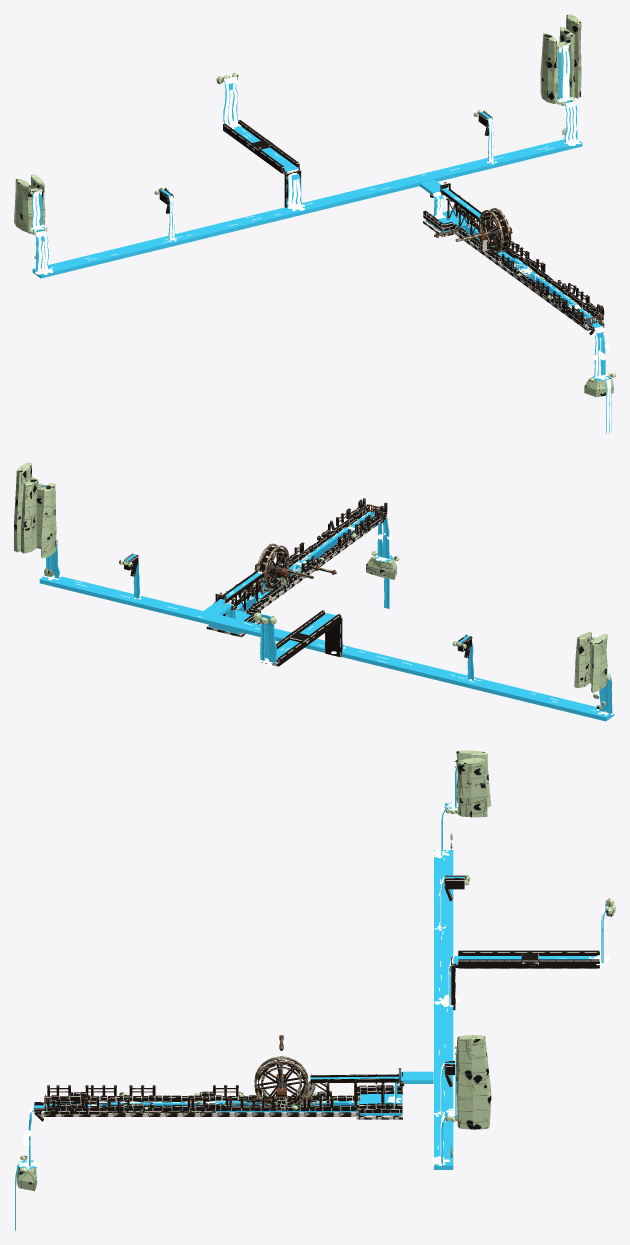
Rendered from LOBBY_05_WATER_SYSTEM_9df2fe.fbx.
3 views of the same model, one above another, from view 1: azimuth 30°, elevation 25°; view 2: azimuth 150°, elevation 25°; view 3: azimuth 270°, elevation 25° (orthographic). The views are drawn at different scales.
Parts seen in each view (by area): view 1: WATER_Waterfalls__Water, WATER_Waterfalls__Cliff_Rock, WATER_Waterfalls__Water_Fall, WATER_Pool_River__Water, WATER_Waterfalls__Stone_Light, WATER_Waterfalls__Cliff_Rock_Dark, WATER_Pool_River__Stone_Light, WATER_Waterfalls__Foam_g15_16, WATER_River_Fences__Wood_Dark_C, WATER_Waterwheel__Wood_Dark_B, WATER_Pool_River__Stone_Dark_B, WATER_Pool_River__Stone_Dark_C; view 2: WATER_Waterfalls__Water, WATER_Waterfalls__Cliff_Rock, WATER_Waterfalls__Cliff_Rock_Dark, WATER_Pool_River__Water, WATER_Waterfalls__Stone_Light, WATER_Waterfalls__Cliff_Rock_B, WATER_Pool_River__Stone_Light, WATER_Waterwheel__Wood_Dark_B, WATER_River_Fences__Wood_Dark_C, WATER_Waterfalls__Stone_Dark, WATER_Pool_River__Stone_Dark_B, WATER_Pool_River__Stone_Dark_C (+6 smaller); view 3: WATER_Waterfalls__Water, WATER_Waterfalls__Cliff_Rock, WATER_Waterfalls__Stone_Light, WATER_Pool_River__Stone_Light, WATER_Pool_River__Water, WATER_Waterfalls__Cliff_Rock_B, WATER_Pool_River__Stone_Dark_C, WATER_Pool_River__Stone_Dark_B, WATER_River_Fences__Wood_Dark_C, WATER_Pool_River__Stone_Light_B, WATER_Waterwheel__Wood_Dark_B, WATER_Pool_River__Wood_Plank_C (+3 smaller).
Part boxes in pixels (bbox=[...]): WATER_Waterfalls__Water: bbox=[31, 44, 582, 278]; WATER_Waterfalls__Cliff_Rock: bbox=[29, 14, 581, 231]; WATER_Waterfalls__Water_Fall: bbox=[32, 50, 576, 270]; WATER_Pool_River__Water: bbox=[426, 190, 611, 433]; WATER_Waterfalls__Stone_Light: bbox=[159, 111, 492, 205]; WATER_Waterfalls__Cliff_Rock_Dark: bbox=[14, 41, 568, 258]; WATER_Pool_River__Stone_Light: bbox=[427, 204, 604, 328]; WATER_Waterfalls__Foam_g15_16: bbox=[31, 76, 298, 274]; WATER_River_Fences__Wood_Dark_C: bbox=[492, 227, 604, 320]; WATER_Waterwheel__Wood_Dark_B: bbox=[434, 208, 510, 253]; WATER_Pool_River__Stone_Dark_B: bbox=[423, 207, 604, 334]; WATER_Pool_River__Stone_Dark_C: bbox=[426, 217, 590, 330]; WATER_Waterfalls__Water: bbox=[39, 485, 614, 721]; WATER_Waterfalls__Cliff_Rock: bbox=[14, 462, 466, 648]; WATER_Waterfalls__Cliff_Rock_Dark: bbox=[36, 486, 607, 709]; WATER_Pool_River__Water: bbox=[209, 509, 392, 634]; WATER_Waterfalls__Stone_Light: bbox=[124, 553, 471, 666]; WATER_Waterfalls__Cliff_Rock_B: bbox=[574, 632, 610, 688]; WATER_Pool_River__Stone_Light: bbox=[227, 507, 380, 622]; WATER_Waterwheel__Wood_Dark_B: bbox=[256, 543, 336, 591]; WATER_River_Fences__Wood_Dark_C: bbox=[238, 498, 387, 597]; WATER_Waterfalls__Stone_Dark: bbox=[130, 556, 472, 666]; WATER_Pool_River__Stone_Dark_B: bbox=[206, 505, 387, 637]; WATER_Pool_River__Stone_Dark_C: bbox=[250, 515, 386, 622]; WATER_Waterfalls__Water: bbox=[395, 762, 606, 1169]; WATER_Waterfalls__Cliff_Rock: bbox=[445, 760, 614, 1129]; WATER_Waterfalls__Stone_Light: bbox=[399, 875, 599, 1086]; WATER_Pool_River__Stone_Light: bbox=[34, 1085, 402, 1114]; WATER_Pool_River__Water: bbox=[15, 1076, 402, 1230]; WATER_Waterfalls__Cliff_Rock_B: bbox=[446, 757, 487, 1048]; WATER_Pool_River__Stone_Dark_C: bbox=[41, 1084, 394, 1116]; WATER_Pool_River__Stone_Dark_B: bbox=[34, 1086, 402, 1121]; WATER_River_Fences__Wood_Dark_C: bbox=[47, 1085, 333, 1108]; WATER_Pool_River__Stone_Light_B: bbox=[44, 1085, 402, 1114]; WATER_Waterwheel__Wood_Dark_B: bbox=[254, 1037, 308, 1105]; WATER_Pool_River__Wood_Plank_C: bbox=[293, 1074, 398, 1104].
Size of the model in its own units: 266 by 108 by 208.
Materials: 10 (4 with a texture image).
